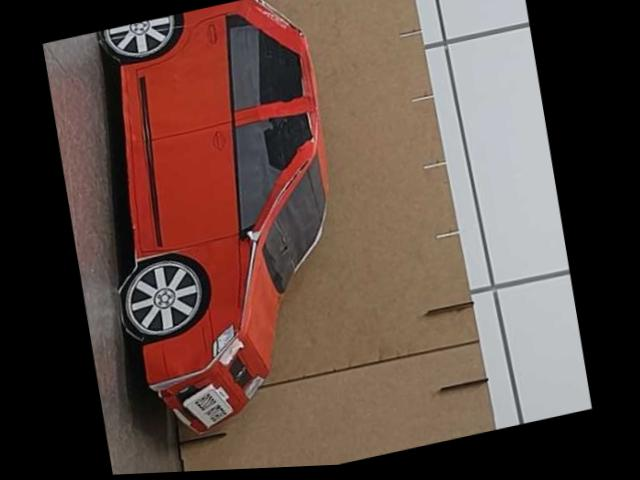car: (65, 0, 374, 452)
id: (177, 379, 237, 433)
